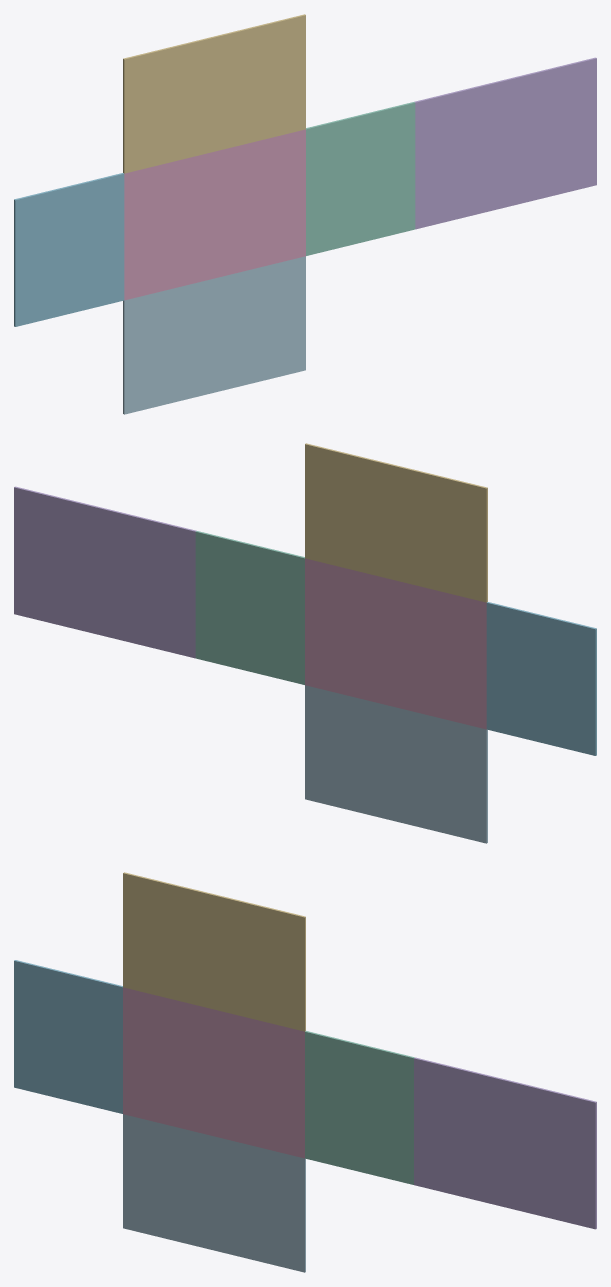
Rendered from 05_jaring_jaring_balok_pastel.glb.
The picture shows the model from 3 angles, top to bottom: view 1: azimuth 30°, elevation 25°; view 2: azimuth 150°, elevation 25°; view 3: azimuth 330°, elevation 25°; orthographic projection.
Parts seen in each view (by area): view 1: part_003, part_000, part_004, part_005, part_001, part_002; view 2: part_003, part_000, part_004, part_005, part_001, part_002; view 3: part_003, part_000, part_004, part_005, part_002, part_001.
Boxes of the visible parts, box(x1,y1,x2,y2) form: part_003: box(414, 57, 596, 229); part_000: box(124, 129, 305, 300); part_004: box(123, 14, 305, 173); part_005: box(123, 256, 305, 414); part_001: box(14, 173, 124, 326); part_002: box(306, 102, 415, 255); part_003: box(14, 486, 196, 658); part_000: box(305, 558, 486, 729); part_004: box(305, 443, 487, 602); part_005: box(305, 685, 487, 843); part_001: box(486, 602, 596, 755); part_002: box(195, 531, 304, 684); part_003: box(414, 1057, 596, 1229); part_000: box(123, 987, 304, 1158); part_004: box(123, 872, 305, 1031); part_005: box(123, 1114, 305, 1272); part_002: box(305, 1031, 414, 1184); part_001: box(14, 960, 122, 1113).
Size of the model in its own units: 9.6 by 5.6 by 0.035.
